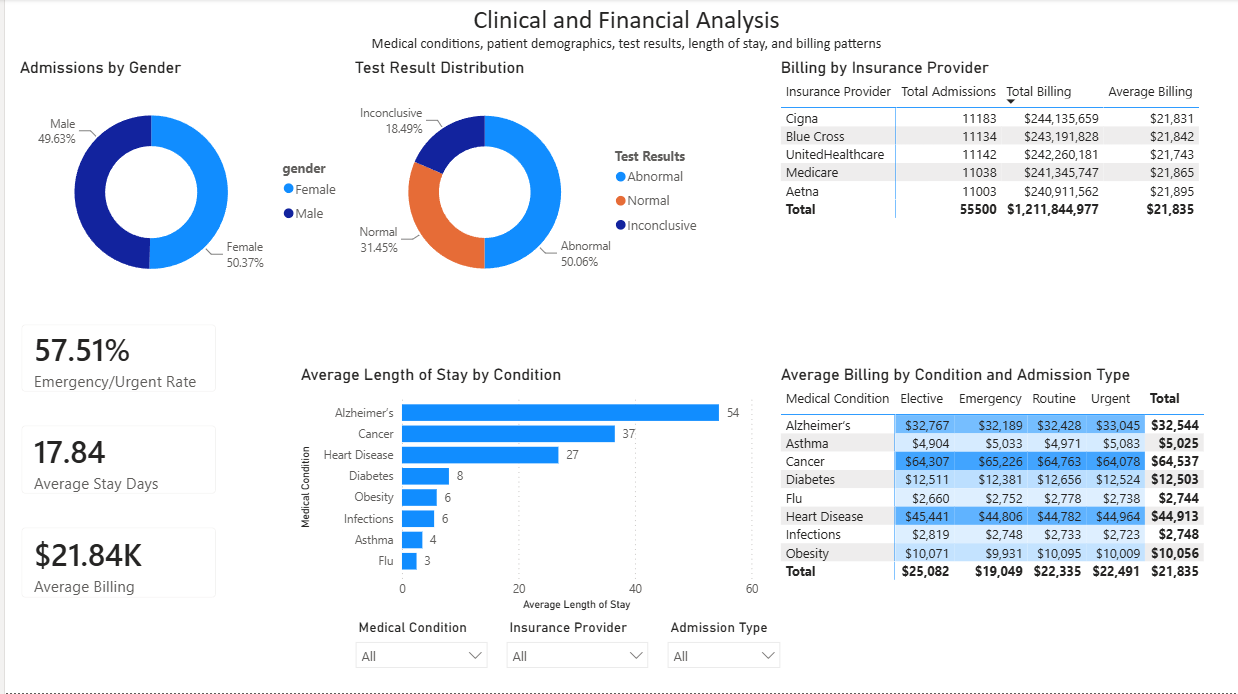

The page's visual inventory and layout, read from the dashboard file:
{"tool":"powerbi","page":{"name":"Clinical and Financial Analysis","canvas":[1280,720],"ordinal":1},"visuals":[{"type":"textbox","box":[10.4,0,1269.6,61.2],"z":0},{"type":"donutChart","title":"Admissions by Gender","fields":{"Category":["Healthcare.gender"],"Y":["Healthcare.Total Admissions"]},"box":[10.4,61.2,347.8,259.5],"z":1},{"type":"clusteredBarChart","title":"Average Length of Stay by Condition","fields":{"Category":["Healthcare.medical_condition"],"Y":["Healthcare.Average Length of Stay"]},"box":[302.1,380,484.8,259.5],"z":2},{"type":"donutChart","title":"Test Result Distribution","fields":{"Category":["Healthcare.test_results"],"Y":["Healthcare.Total Admissions"]},"box":[358.2,61.2,373.7,259.5],"z":3},{"type":"pivotTable","title":"Billing by Insurance Provider","fields":{"Rows":["Healthcare.insurance_provider"],"Values":["Healthcare.Total Admissions","Healthcare.Total Billing","Healthcare.Average Billing"]},"box":[800.4,61.2,479.6,259.5],"z":4},{"type":"pivotTable","title":"Average Billing by Condition and Admission Type","fields":{"Rows":["Healthcare.medical_condition"],"Columns":["Healthcare.admission_type"],"Values":["Healthcare.Average Billing"]},"box":[800.4,380,465.1,259.5],"z":5},{"type":"slicer","fields":{"Values":["Healthcare.medical_condition"]},"box":[354,639.5,156.8,65.4],"z":6},{"type":"slicer","fields":{"Values":["Healthcare.admission_type"]},"box":[677.9,639.5,137,65.4],"z":7},{"type":"slicer","fields":{"Values":["Healthcare.insurance_provider"]},"box":[510.8,639.5,167.1,65.4],"z":8},{"type":"cardVisual","fields":{"Data":["Healthcare.Emergency or Urgent Rate"]},"box":[0,320.8,236.7,104.8],"z":9},{"type":"cardVisual","fields":{"Data":["Healthcare.Average Length of Stay"]},"box":[0,425.6,236.7,105.9],"z":10},{"type":"cardVisual","fields":{"Data":["Healthcare.Average Billing"]},"box":[0,531.5,236.7,108],"z":11}]}

Visuals, with their boxes in screenshot pixels (x1, y1, x2, y2), scaled from the page's 1280x720 canvas onto the 1238x694 screenshot:
textbox: crop(10, 0, 1237, 59)
"Admissions by Gender" donutChart: crop(10, 59, 346, 309)
"Average Length of Stay by Condition" clusteredBarChart: crop(292, 366, 761, 616)
"Test Result Distribution" donutChart: crop(346, 59, 708, 309)
"Billing by Insurance Provider" pivotTable: crop(774, 59, 1237, 309)
"Average Billing by Condition and Admission Type" pivotTable: crop(774, 366, 1224, 616)
slicer - Healthcare.medical_condition: crop(342, 616, 494, 679)
slicer - Healthcare.admission_type: crop(656, 616, 788, 679)
slicer - Healthcare.insurance_provider: crop(494, 616, 656, 679)
cardVisual - Healthcare.Emergency or Urgent Rate: crop(0, 309, 229, 410)
cardVisual - Healthcare.Average Length of Stay: crop(0, 410, 229, 512)
cardVisual - Healthcare.Average Billing: crop(0, 512, 229, 616)
